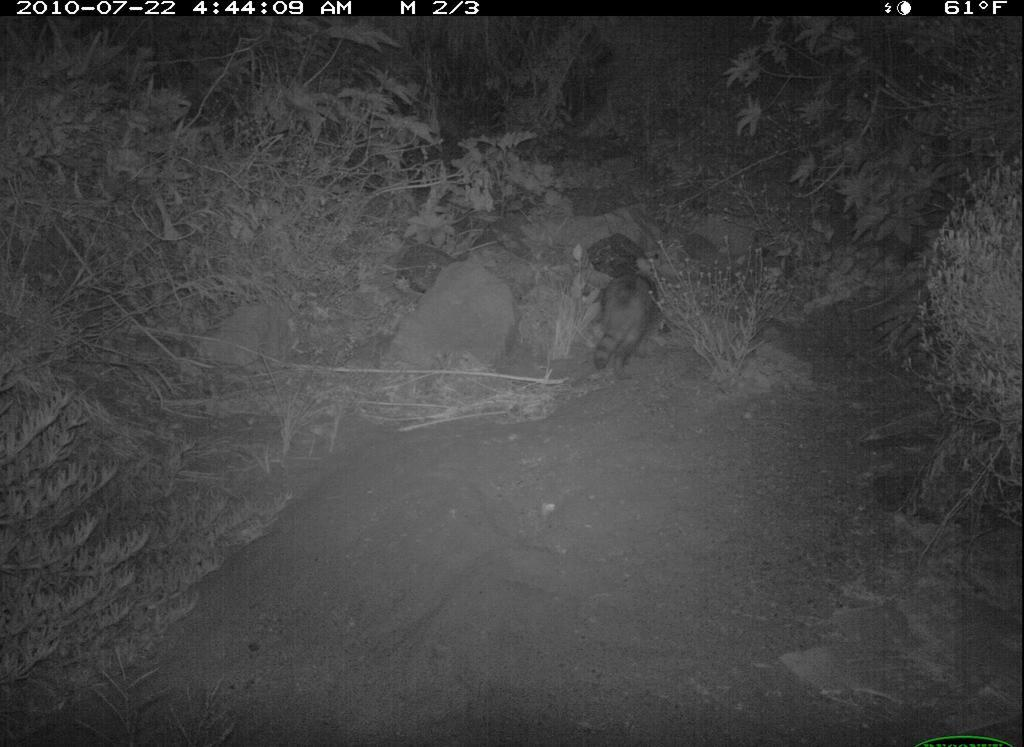raccoon: (584, 263, 662, 379)
